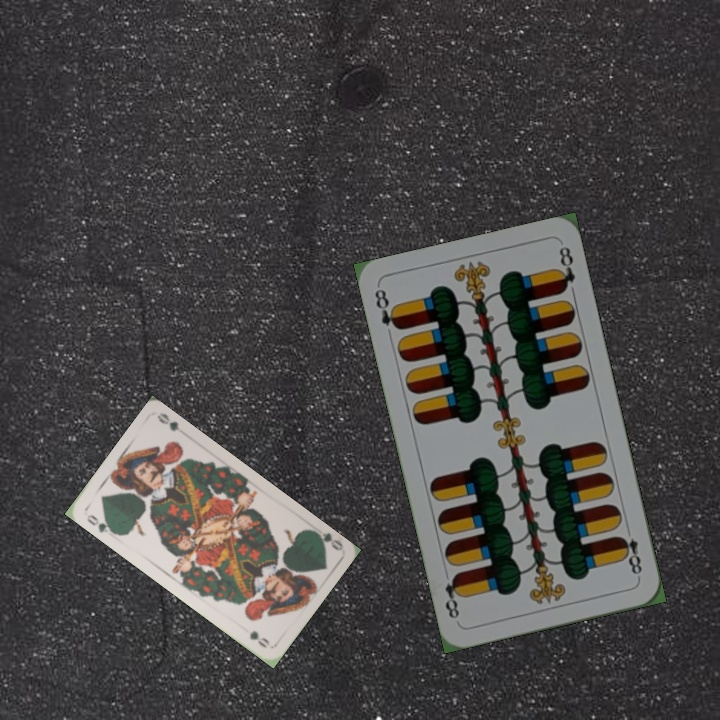E8: (370, 285, 403, 333), (615, 532, 645, 581)
GO: (306, 525, 344, 553), (82, 510, 118, 537)
